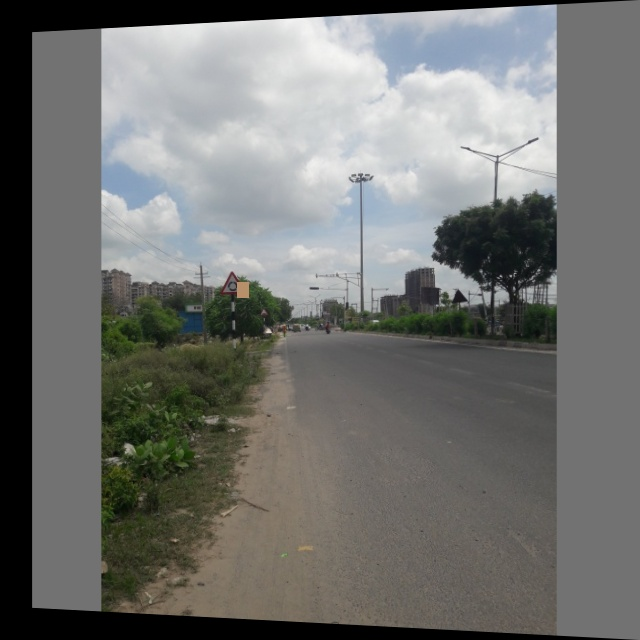Round_About: (217, 268, 249, 298)
